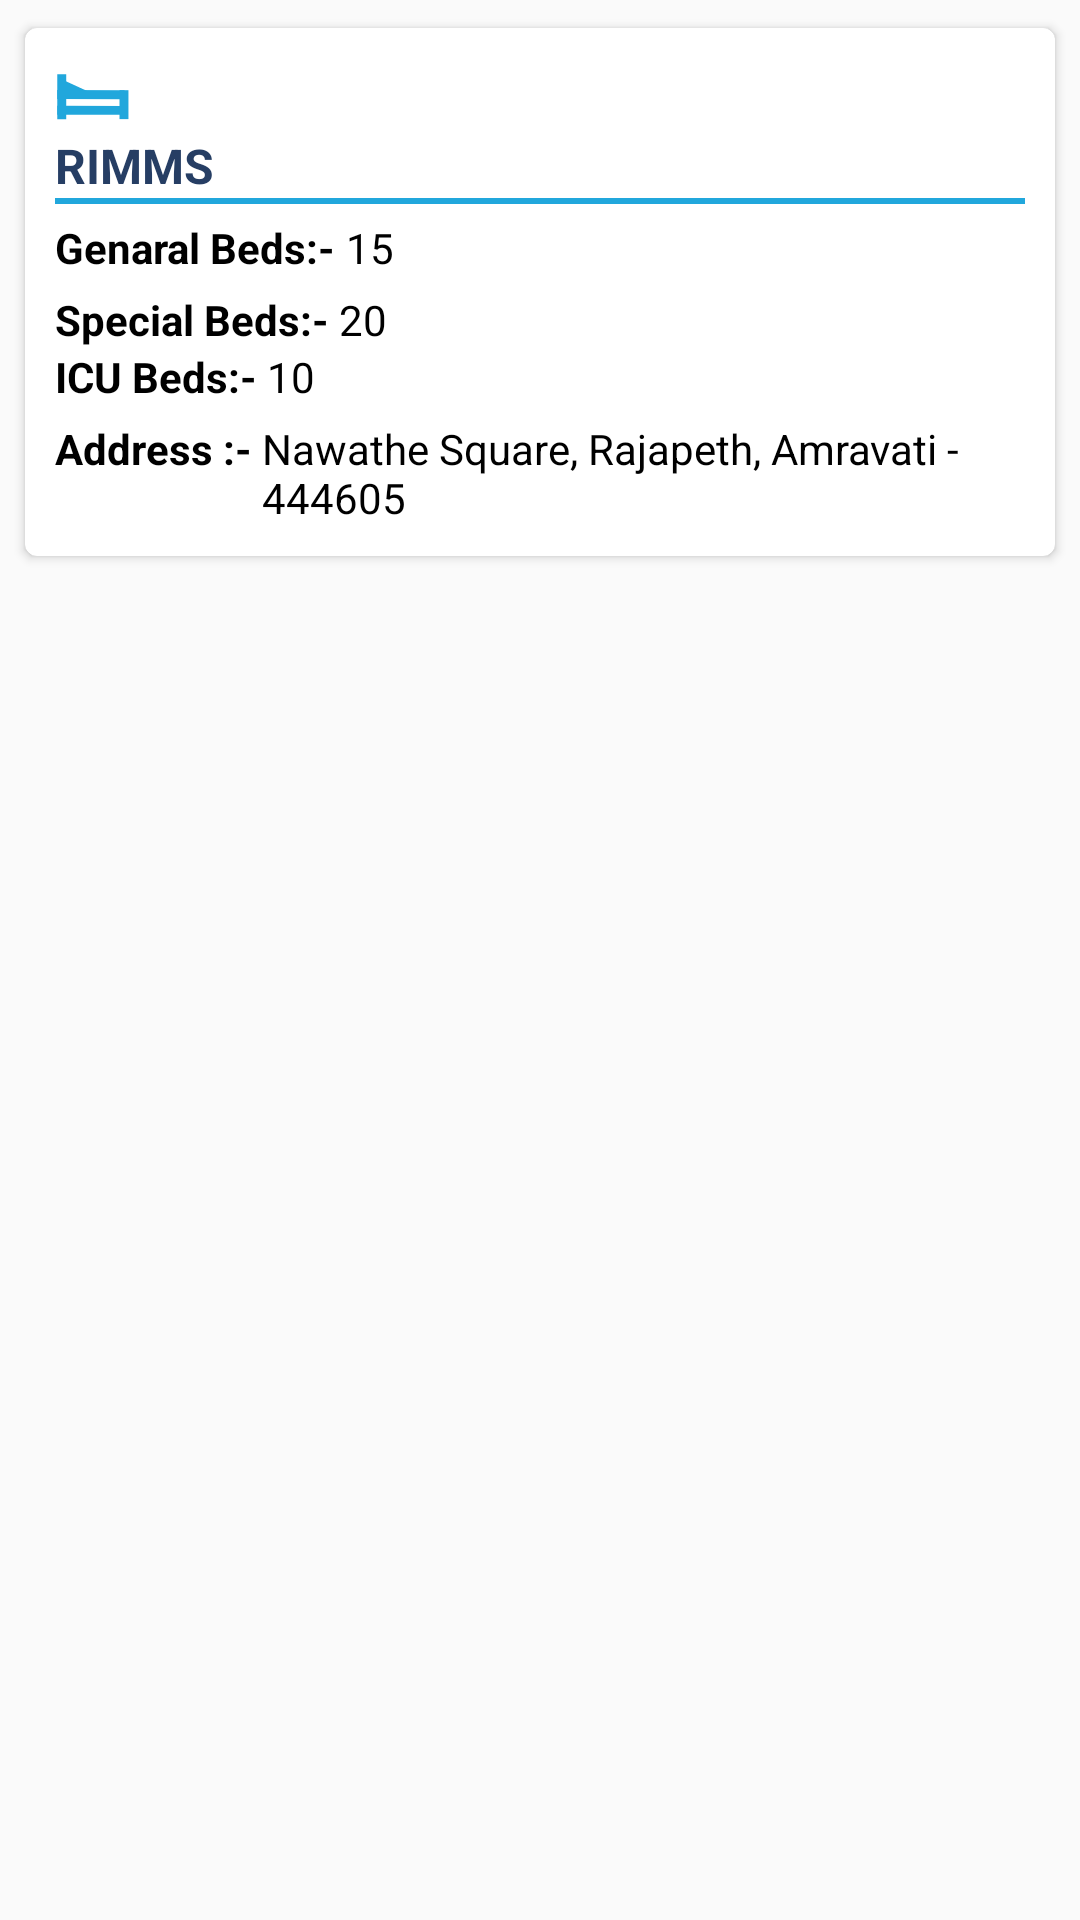

Locate icon controls on the screen. Image size 1080px x 1920px, boxes as [x1, y1, x2, y2].
bed: [57, 74, 129, 120]
